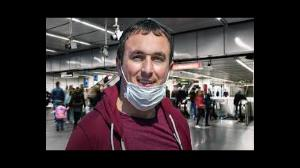mask_weared_incorrect: (125, 47, 169, 100)
